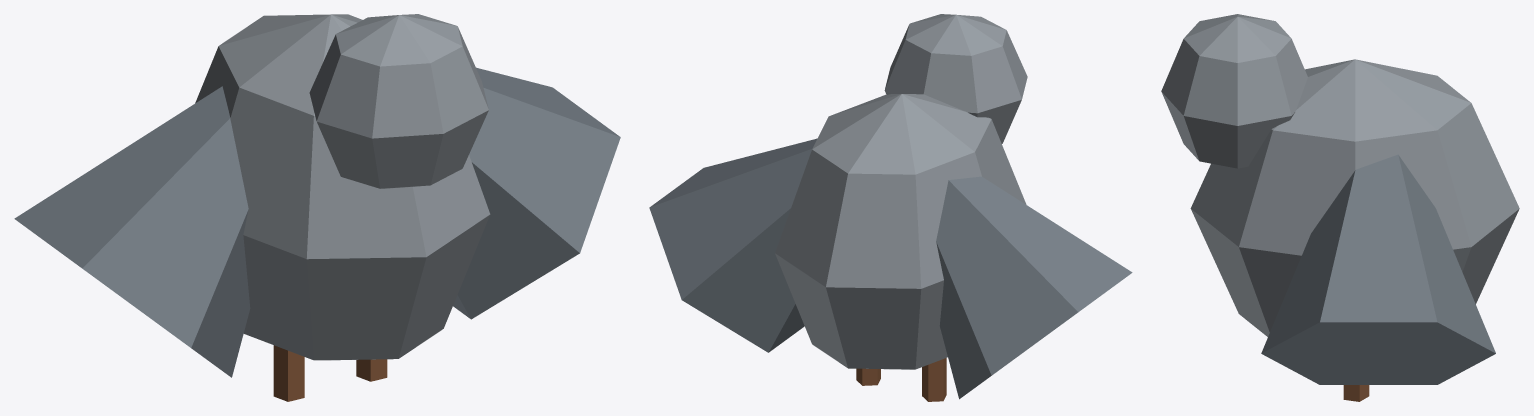
The model's file is pigeon.glb.
The picture shows the model from 3 angles, left to right: view 1: azimuth 30°, elevation 25°; view 2: azimuth 150°, elevation 25°; view 3: azimuth 270°, elevation 25°; orthographic projection. The views are drawn at different scales.
Parts seen in each view (by area): view 1: pigeon; view 2: pigeon; view 3: pigeon.
Boxes of the visible parts, <box> form: pigeon: <box>14,14,620,401</box>; pigeon: <box>649,14,1132,401</box>; pigeon: <box>1161,14,1519,401</box>.
Size of the model in its own units: 0.3355 by 0.25 by 0.2243.
